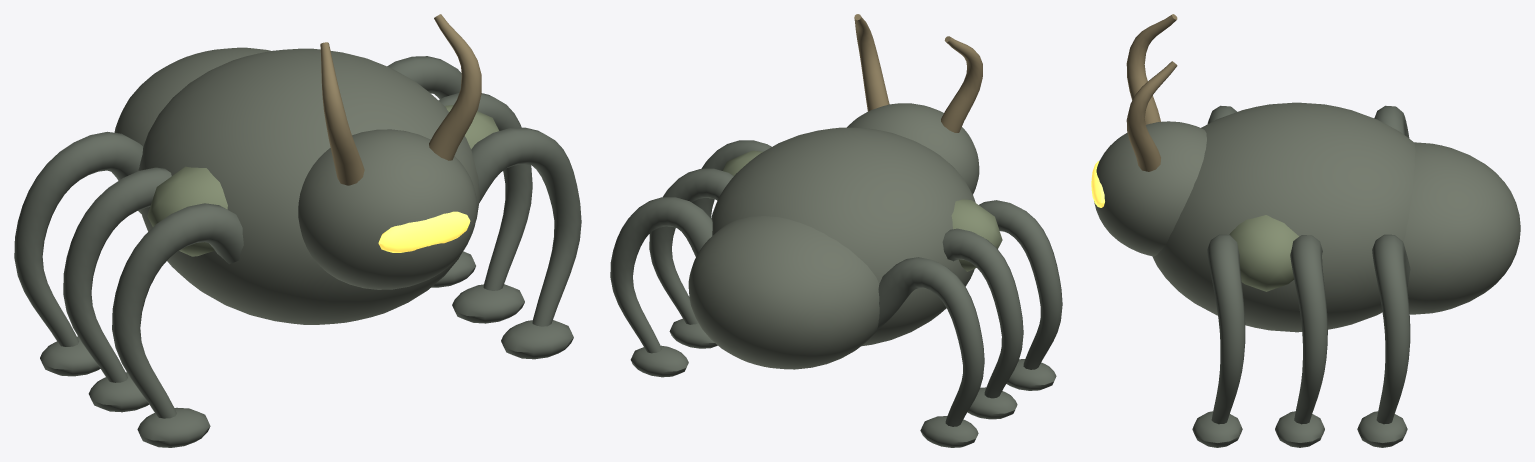
File: alien_tank.glb
3 renders of one model, left to right at view 1: azimuth 30°, elevation 25°; view 2: azimuth 150°, elevation 25°; view 3: azimuth 270°, elevation 25°, orthographic. The views are drawn at different scales.
Visible parts, largest first — view 1: AlienTank; view 2: AlienTank; view 3: AlienTank.
Part boxes in pixels (<box>): AlienTank: <box>14,14,581,447</box>; AlienTank: <box>610,14,1062,447</box>; AlienTank: <box>1091,14,1520,447</box>.
Bounding box in the file's own units: 1.49 × 1.19 × 1.41.
